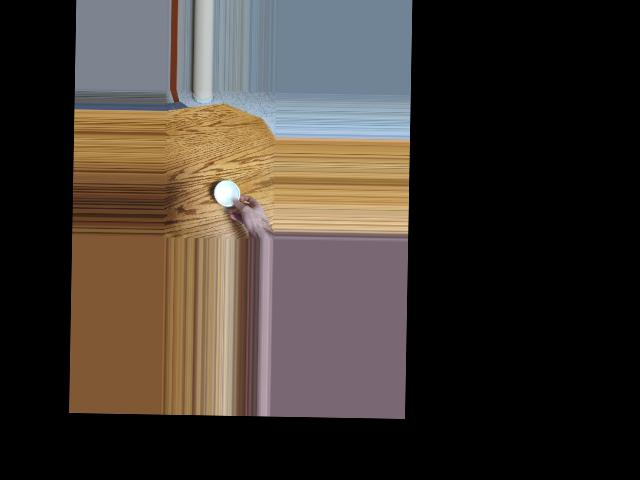cotage: (213, 180, 243, 209)
